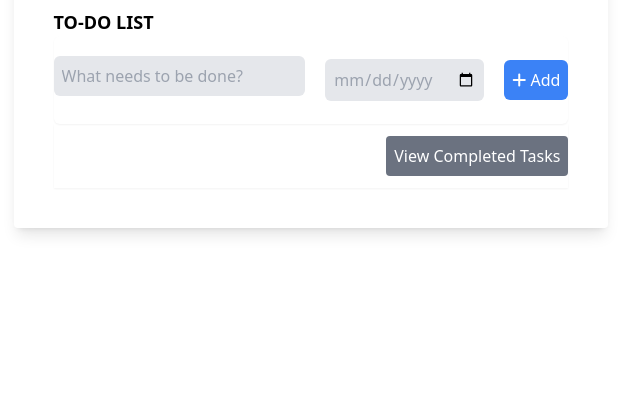
Main Page › can edit a todo
In the field with test id "todo-text": [180, 76] box x1=54 y1=56 x2=306 y2=96, type "Todo Item to edit"
In the date field with test id "date": [405, 80] box x1=325 y1=59 x2=484 y2=101, type "2024-12-31"
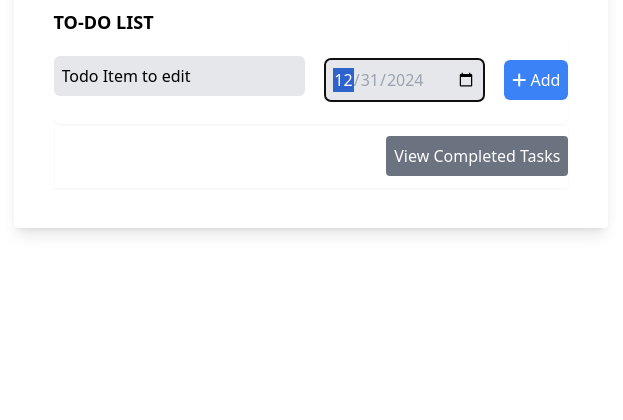
Click the button with test id "add": [536, 80] box x1=504 y1=60 x2=568 y2=100
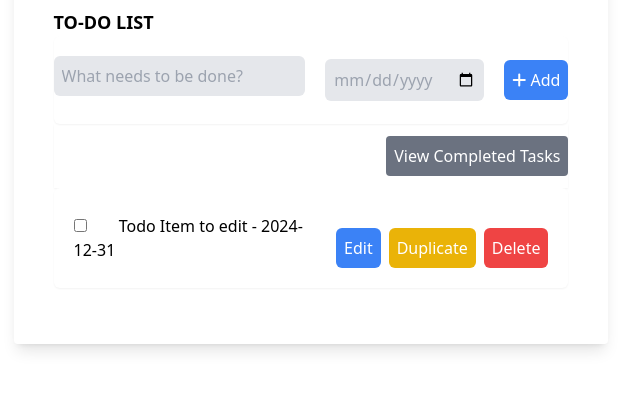
Click the button with test id "edit": [359, 248] box x1=336 y1=228 x2=381 y2=268
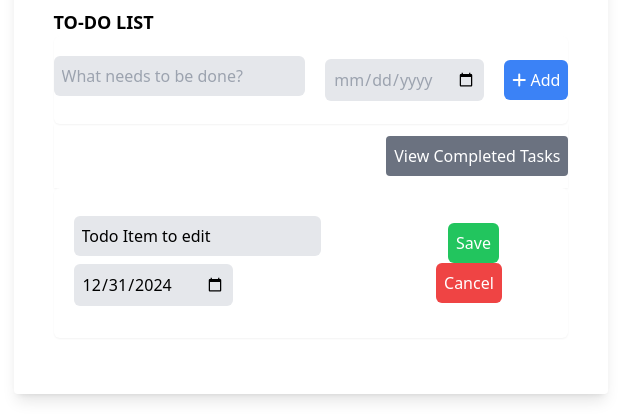
Replace the text in the field with test id "new-text" with "Edited Todo Item": [198, 236] box x1=74 y1=216 x2=321 y2=256
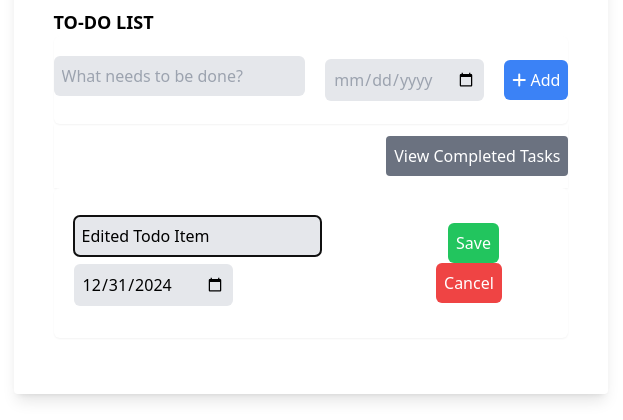
In the date field with test id "new-date": [154, 285] box x1=74 y1=264 x2=233 y2=306, type "2025-01-01"
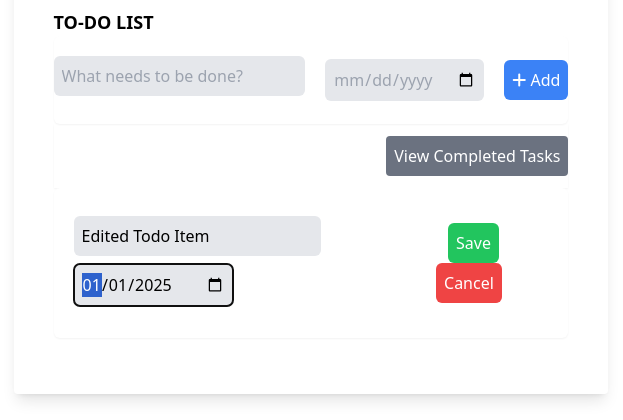
Click the button with test id "save": [474, 243] box x1=448 y1=223 x2=499 y2=263
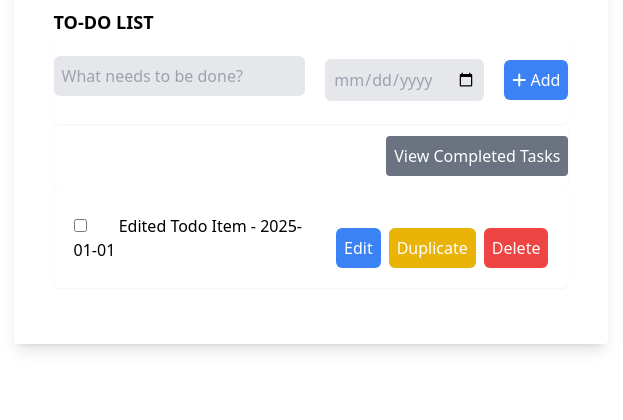
Expected: the text "2025-01-01" is shown, x1=74 y1=215 x2=302 y2=261
